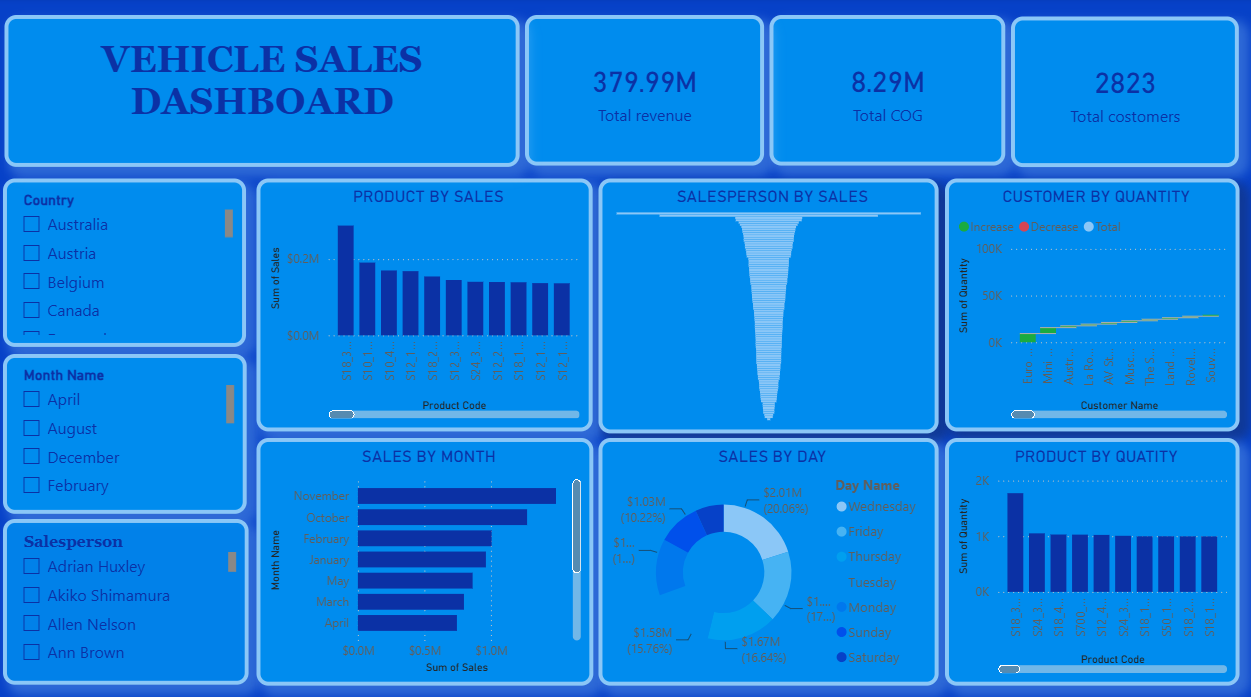

This screenshot's page, from the dashboard's own definition file:
{"tool":"powerbi","page":{"name":"Page 1","canvas":[1280,720],"ordinal":0},"visuals":[{"type":"card","fields":{"Values":["raw data.Total COG"]},"box":[786.1,18.9,238,152],"z":0},{"type":"card","fields":{"Values":["raw data.Total costomers"]},"box":[1030,20,230,152],"z":1000},{"type":"card","fields":{"Values":["raw data.Total revenue"]},"box":[538.6,18.9,241,152],"z":2000},{"type":"slicer","fields":{"Values":["raw data.Country"]},"box":[12.5,182.5,245,170],"z":3000},{"type":"slicer","fields":{"Values":["raw data.Month Name"]},"box":[12.5,360,246,161],"z":4000},{"type":"slicer","fields":{"Values":["raw data.Salesperson"]},"box":[12.5,527.5,248,167.5],"z":5000},{"type":"columnChart","title":"PRODUCT BY SALES","fields":{"Category":["raw data.Product Code"],"Y":["Sum(raw data.Sales)"]},"box":[267.5,182.5,339,255],"z":6000},{"type":"barChart","title":"SALES BY MONTH","fields":{"Category":["raw data.Month Name"],"Y":["Sum(raw data.Sales)"]},"box":[267.5,445,340,250],"z":7000},{"type":"funnel","title":"SALESPERSON BY SALES","fields":{"Category":["raw data.Salesperson"],"Y":["Sum(raw data.Sales)"]},"box":[612.5,182.5,343,257],"z":8000},{"type":"donutChart","title":"SALES BY DAY","fields":{"Category":["raw data.Day Name"],"Y":["Sum(raw data.Sales)"]},"box":[612.5,445,343,250],"z":9000},{"type":"waterfallChart","title":"CUSTOMER BY QUANTITY","fields":{"Category":["raw data.Customer Name"],"Y":["Sum(raw data.Quantity)"]},"box":[962.5,182.5,297.5,255],"z":10000},{"type":"clusteredColumnChart","title":"PRODUCT BY QUATITY","fields":{"Y":["Sum(raw data.Quantity)"],"Category":["raw data.Product Code"]},"box":[962.5,445,297.5,250],"z":11000},{"type":"textbox","box":[13.2,18.9,520,153],"z":12000}]}

Visuals, with their boxes in screenshot pixels (x1, y1, x2, y2), scaled from the page's 1280x720 canvas onto the 1251x697 screenshot:
card - raw data.Total COG: {"x1": 768, "y1": 18, "x2": 1001, "y2": 165}
card - raw data.Total costomers: {"x1": 1007, "y1": 19, "x2": 1231, "y2": 167}
card - raw data.Total revenue: {"x1": 526, "y1": 18, "x2": 762, "y2": 165}
slicer - raw data.Country: {"x1": 12, "y1": 177, "x2": 252, "y2": 341}
slicer - raw data.Month Name: {"x1": 12, "y1": 348, "x2": 253, "y2": 504}
slicer - raw data.Salesperson: {"x1": 12, "y1": 511, "x2": 255, "y2": 673}
"PRODUCT BY SALES" columnChart: {"x1": 261, "y1": 177, "x2": 593, "y2": 424}
"SALES BY MONTH" barChart: {"x1": 261, "y1": 431, "x2": 594, "y2": 673}
"SALESPERSON BY SALES" funnel: {"x1": 599, "y1": 177, "x2": 934, "y2": 425}
"SALES BY DAY" donutChart: {"x1": 599, "y1": 431, "x2": 934, "y2": 673}
"CUSTOMER BY QUANTITY" waterfallChart: {"x1": 941, "y1": 177, "x2": 1231, "y2": 424}
"PRODUCT BY QUATITY" clusteredColumnChart: {"x1": 941, "y1": 431, "x2": 1231, "y2": 673}
textbox: {"x1": 13, "y1": 18, "x2": 521, "y2": 166}
